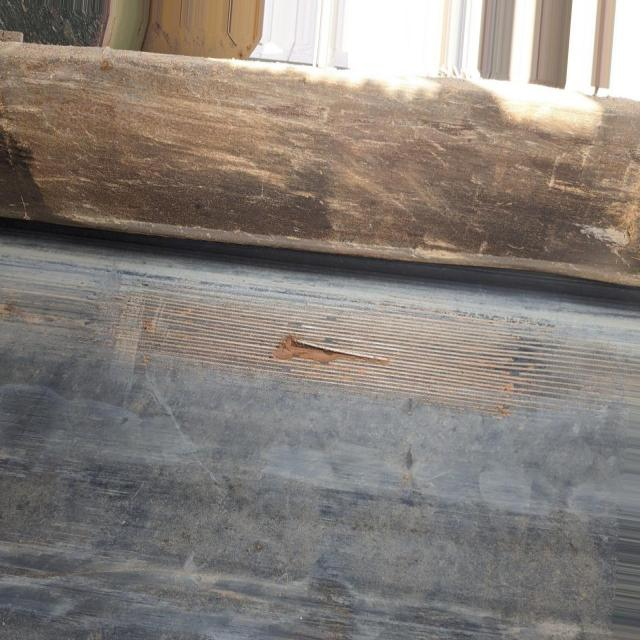impact damage: (125, 279, 543, 398)
